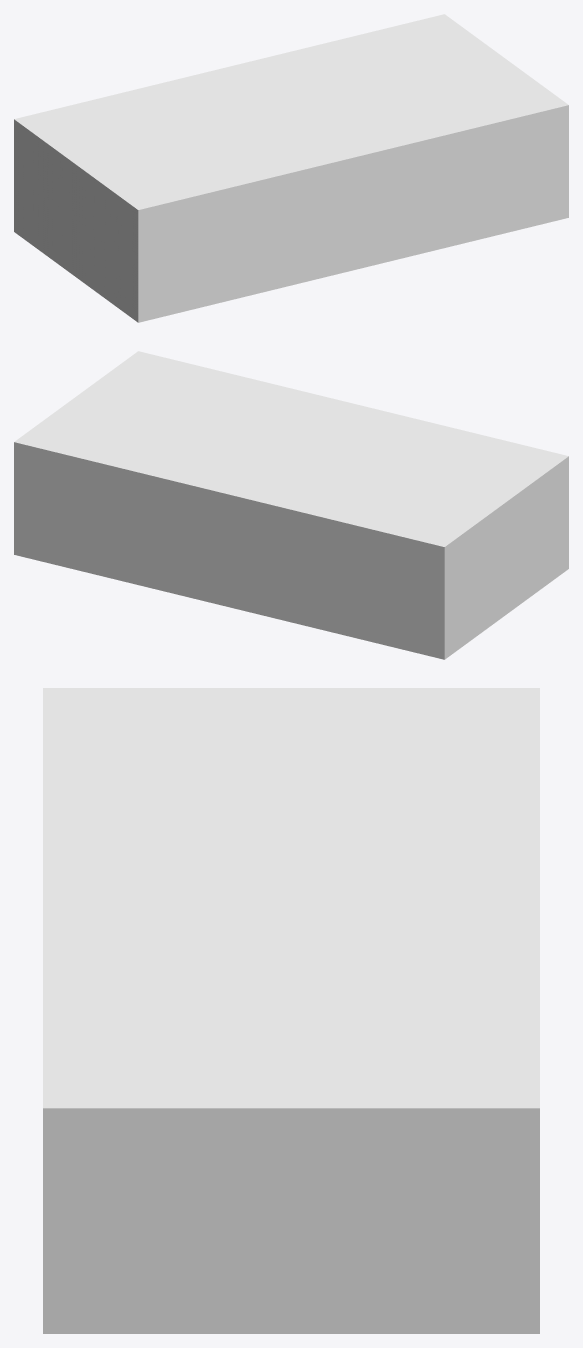
File: fragment_4x8x2.gltf
3 renders of one model, top to bottom at view 1: azimuth 30°, elevation 25°; view 2: azimuth 150°, elevation 25°; view 3: azimuth 270°, elevation 25°, orthographic. The views are drawn at different scales.
Visible parts, largest first — view 1: Layer.1; view 2: Layer.1; view 3: Layer.1.
Boxes of the visible parts, bbox=[...] form: Layer.1: bbox=[14, 14, 568, 322]; Layer.1: bbox=[14, 351, 568, 659]; Layer.1: bbox=[43, 688, 539, 1333].
Size of the model in its own units: 8 by 2 by 4.
Materials: 1 (1 with a texture image).
